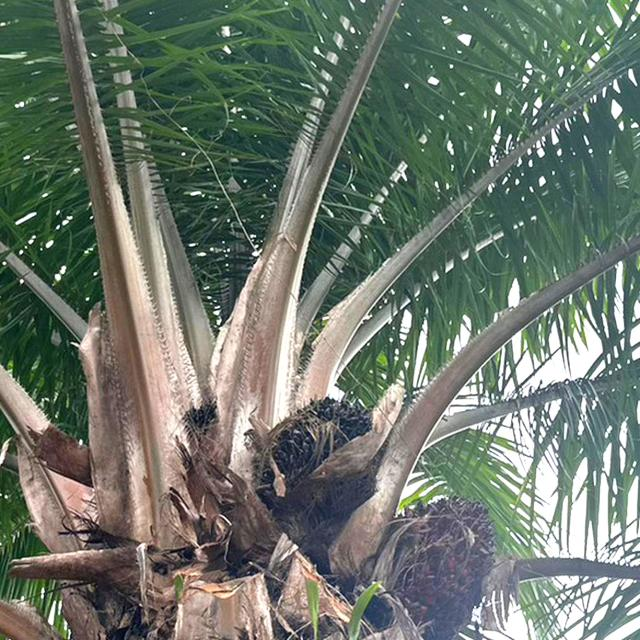unripe: (259, 392, 386, 546)
